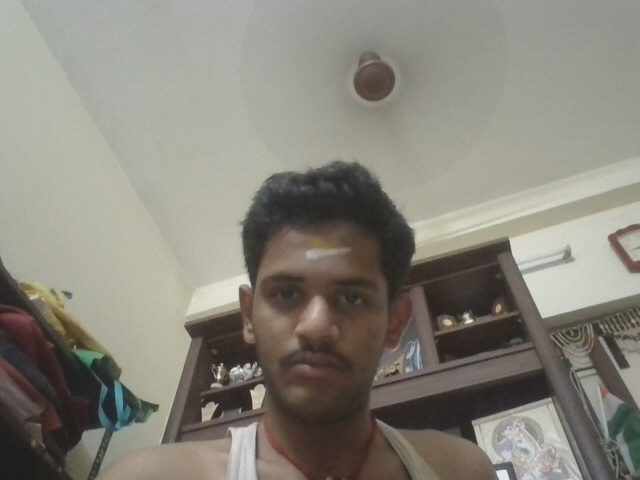real: (233, 227, 407, 401)
